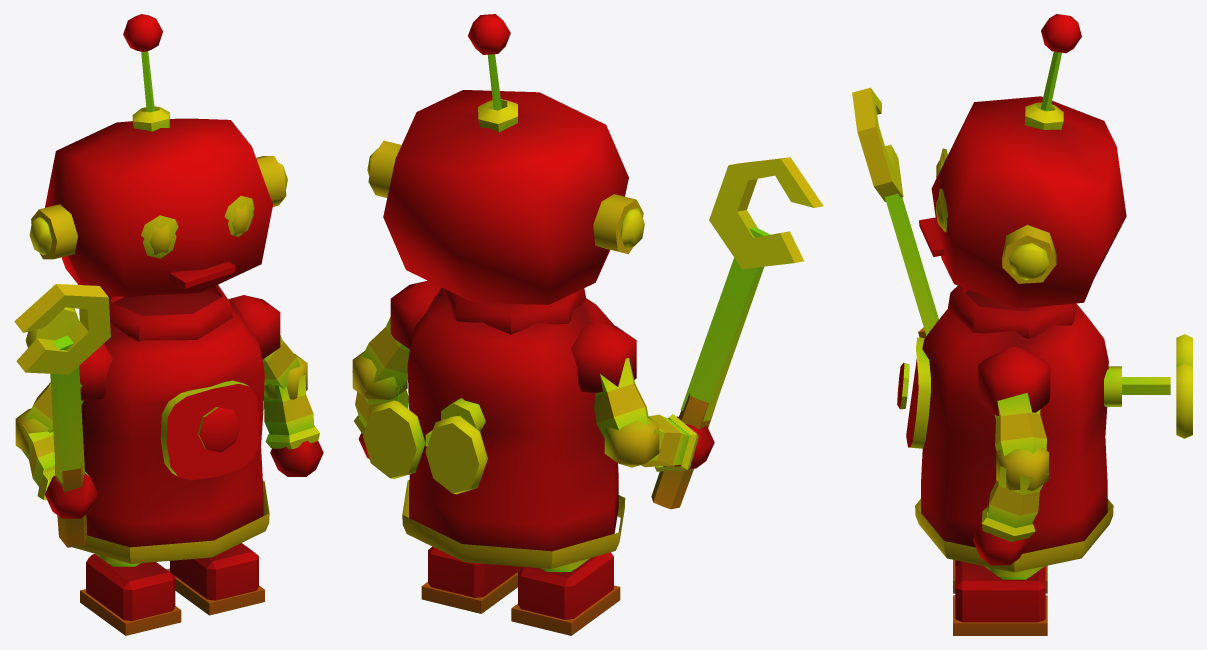
The model's file is RobotWorker_build_LOD1.glb.
The picture shows the model from 3 angles, left to right: view 1: azimuth 30°, elevation 25°; view 2: azimuth 150°, elevation 25°; view 3: azimuth 270°, elevation 25°; orthographic projection. The views are drawn at different scales.
Parts seen in each view (by area): view 1: RobotWorker_build_LOD1; view 2: RobotWorker_build_LOD1; view 3: RobotWorker_build_LOD1.
Boxes of the visible parts, x1,y1,x2,y2 form: RobotWorker_build_LOD1: (14, 14, 323, 635); RobotWorker_build_LOD1: (352, 14, 823, 635); RobotWorker_build_LOD1: (852, 14, 1192, 635).
Size of the model in its own units: 0.6273 by 0.93 by 0.4904.
